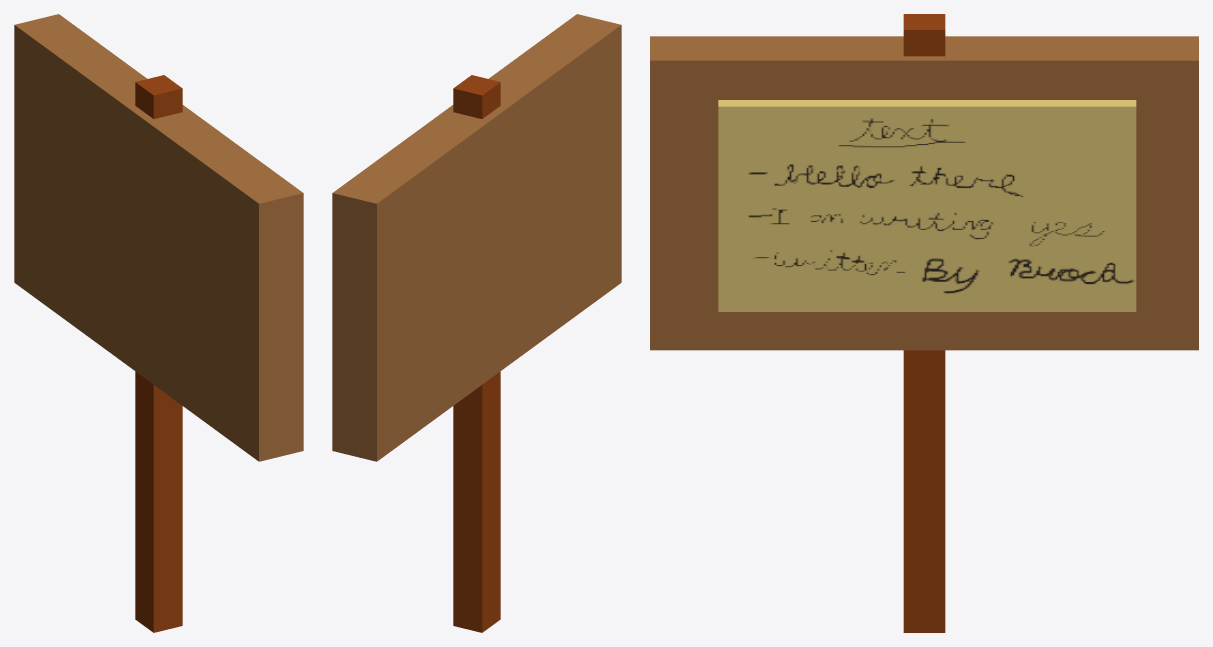
File: Sign.glb
3 views of the same model, side by side, from view 1: azimuth 30°, elevation 25°; view 2: azimuth 150°, elevation 25°; view 3: azimuth 270°, elevation 25° (orthographic). The views are drawn at different scales.
Visible parts, largest first — view 1: Cube.001, Cube, Cube.002; view 2: Cube.001, Cube, Cube.002; view 3: Cube.003, Cube.001, Cube, Cube.002.
Part boxes in pixels (<box>): Cube.001: <box>14,14,303,461</box>; Cube: <box>135,371,182,632</box>; Cube.002: <box>135,75,182,118</box>; Cube.001: <box>332,14,621,461</box>; Cube: <box>453,371,500,632</box>; Cube.002: <box>453,75,500,118</box>; Cube.003: <box>718,100,1136,311</box>; Cube.001: <box>650,36,1198,350</box>; Cube: <box>903,350,945,632</box>; Cube.002: <box>903,14,945,56</box>.
Size of the model in its own units: 0.4554 by 4.17 by 3.44.
Materials: 3 (1 with a texture image).
